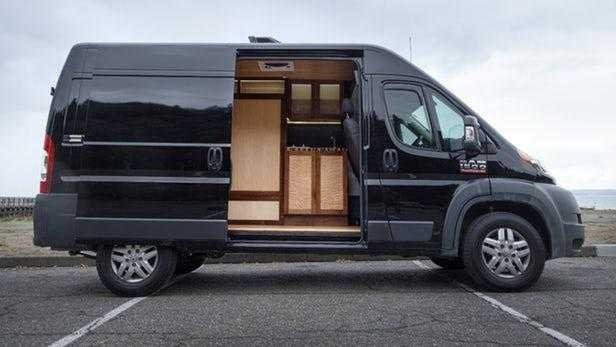van: (32, 36, 586, 296)
